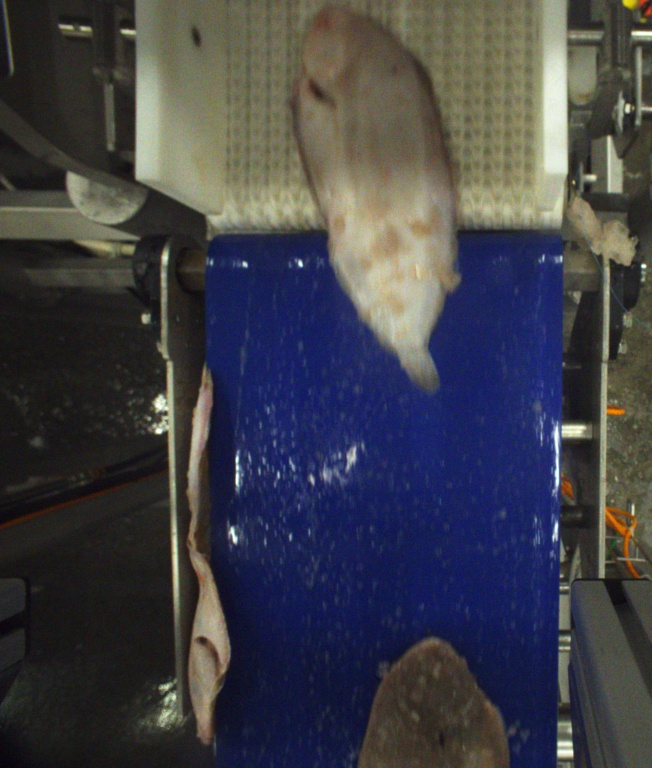SOL: (353, 637, 517, 768)
